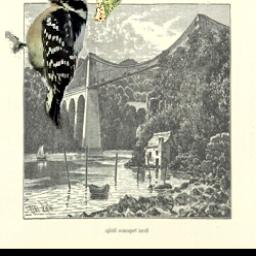Sparrow: (93, 0, 121, 22)
Woodpecker: (5, 0, 91, 130)
